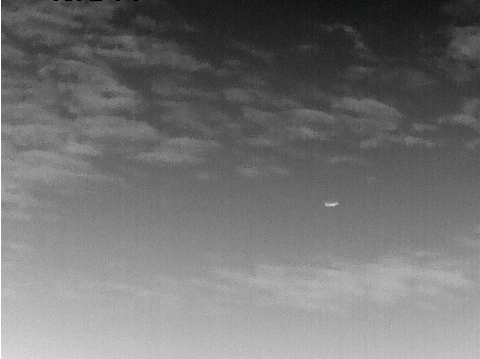dim target: (323, 201, 340, 208)
